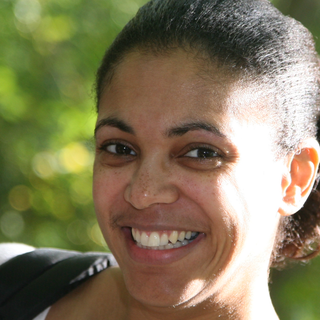eye: (173, 141, 226, 168), (93, 136, 141, 161)
